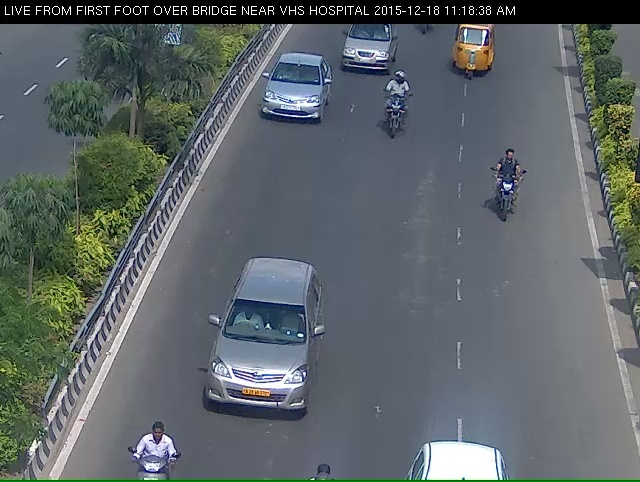Car: (194, 270, 326, 451), (256, 56, 322, 142), (446, 22, 503, 90), (340, 22, 393, 76)
Person: (493, 154, 523, 230), (382, 75, 411, 150)
